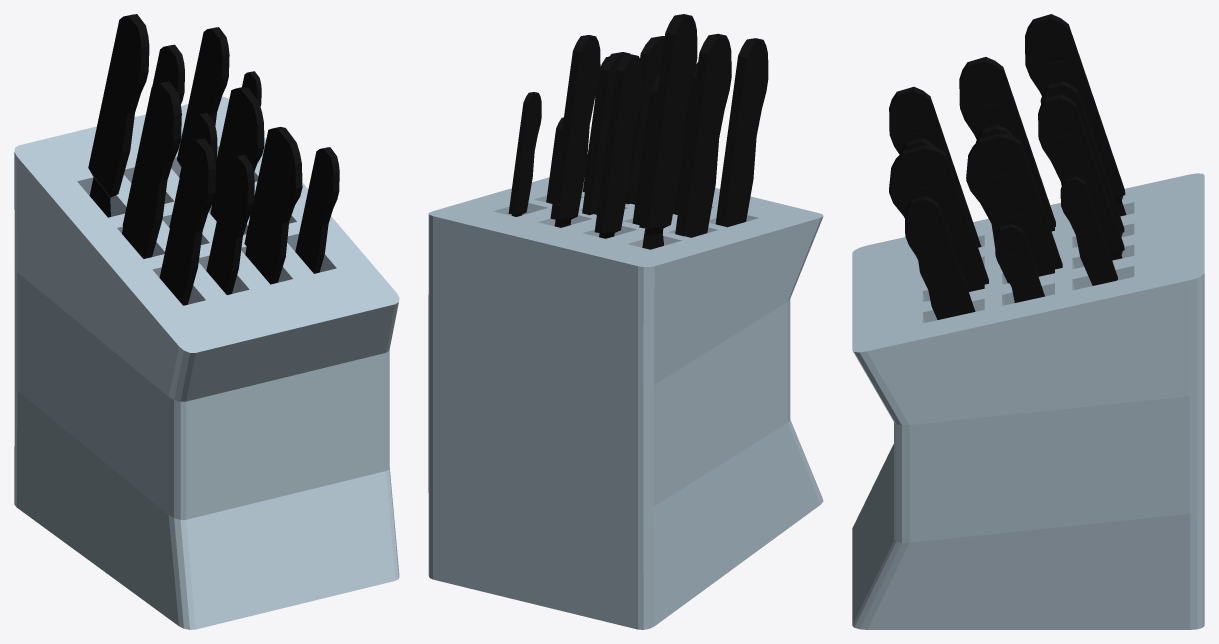
Rendered from Knife holder.fbx.
The picture shows the model from 3 angles, left to right: view 1: azimuth 30°, elevation 25°; view 2: azimuth 150°, elevation 25°; view 3: azimuth 270°, elevation 25°; orthographic projection. The views are drawn at different scales.
Visible parts, largest first — view 1: Cube.015; view 2: Cube.015; view 3: Cube.015.
Boxes of the visible parts, <box> form: Cube.015: <box>14,14,399,629</box>; Cube.015: <box>428,14,823,629</box>; Cube.015: <box>852,14,1204,629</box>.
Bounding box in the file's own units: 0.1192 × 0.265 × 0.1597.
